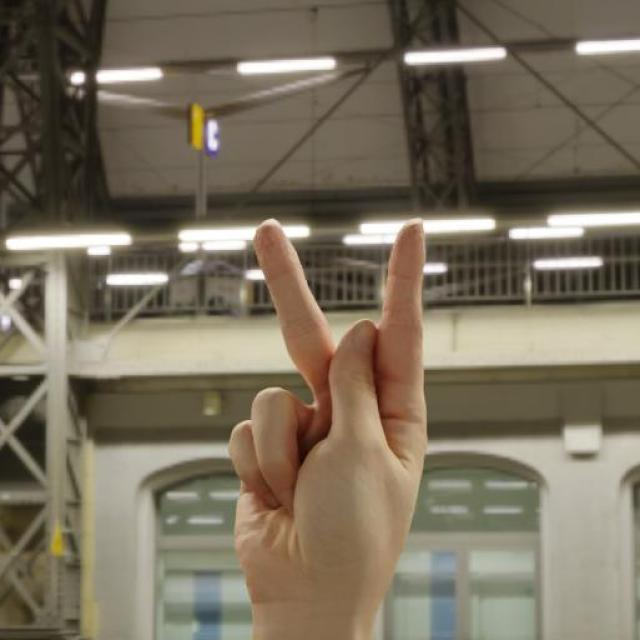K: (224, 217, 433, 591)
